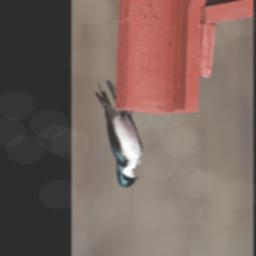Swallow: (95, 81, 144, 190)
